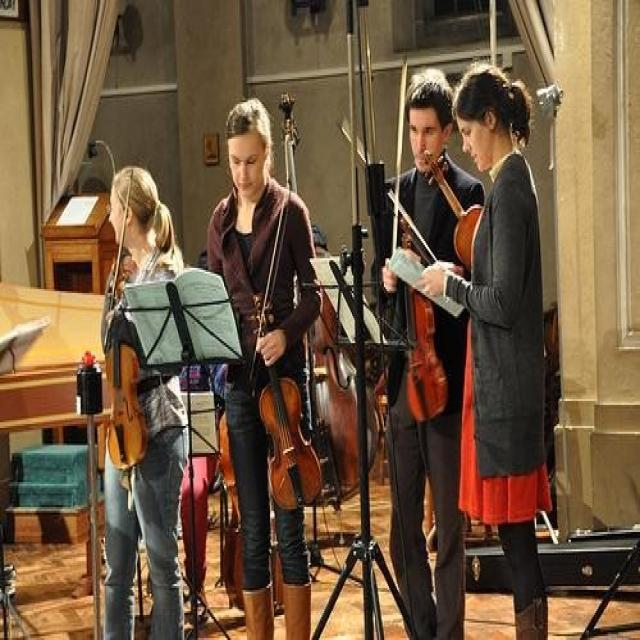violin: (250, 293, 324, 512), (397, 218, 451, 428), (106, 264, 150, 470), (425, 147, 486, 264)
